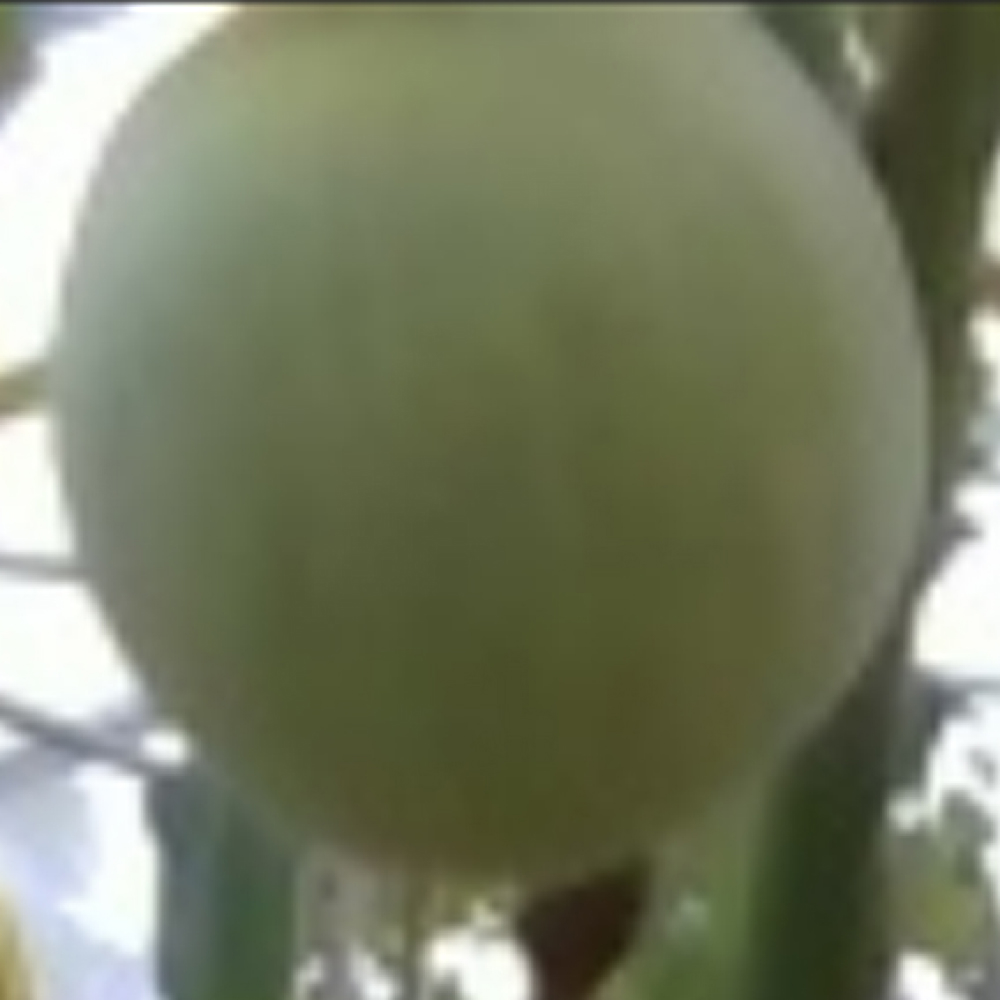melon: (50, 1, 938, 897)
